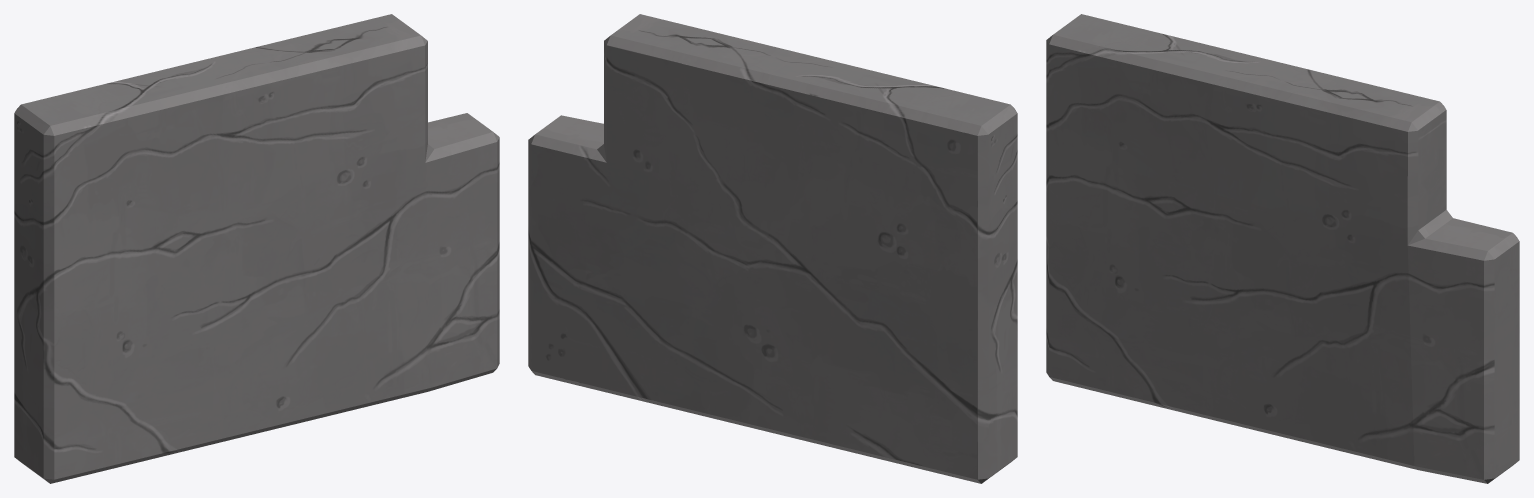
File: rockWall.fbx
3 views of the same model, side by side, from view 1: azimuth 30°, elevation 25°; view 2: azimuth 150°, elevation 25°; view 3: azimuth 330°, elevation 25° (orthographic). The views are drawn at different scales.
Parts seen in each view (by area): view 1: rockWall1; view 2: rockWall1; view 3: rockWall1.
Part boxes in pixels (x1,y1,x2,y2): rockWall1: (14, 14, 499, 483); rockWall1: (528, 14, 1017, 483); rockWall1: (1046, 14, 1519, 483).
Size of the model in its own units: 7.98 by 5.94 by 1.12.
